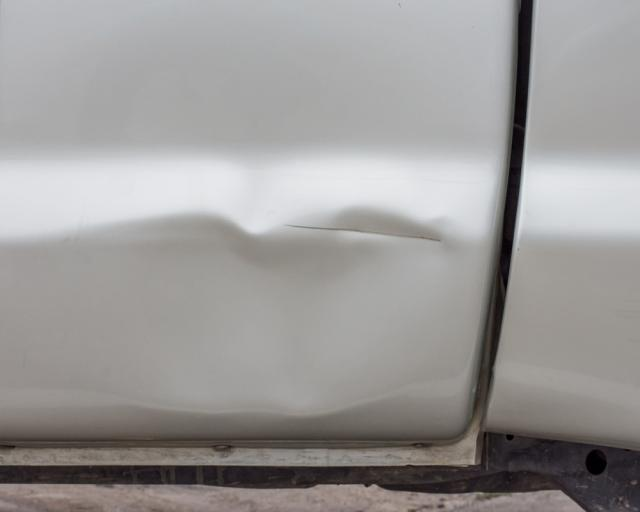dent: (64, 207, 446, 416)
